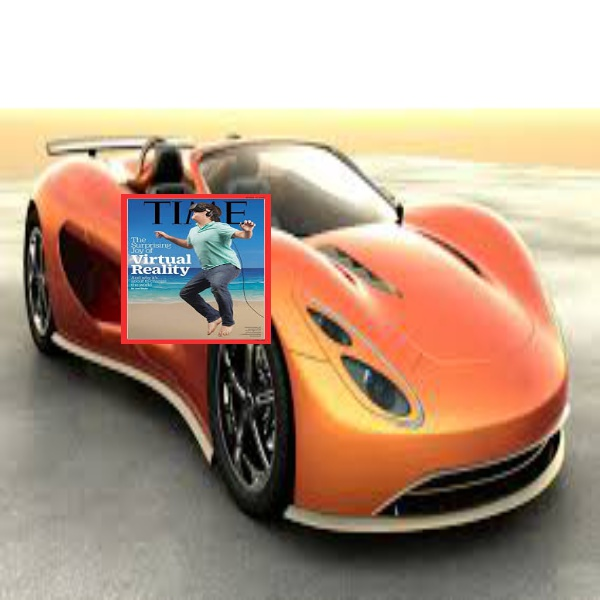time_cover: (121, 185, 273, 349)
